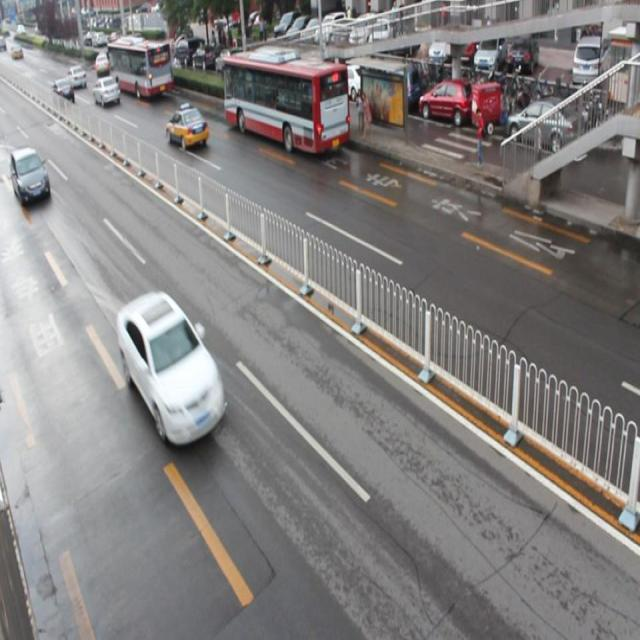car: (117, 289, 226, 445), (166, 105, 210, 149)
truck: (11, 146, 51, 205)
van: (222, 52, 349, 153)
